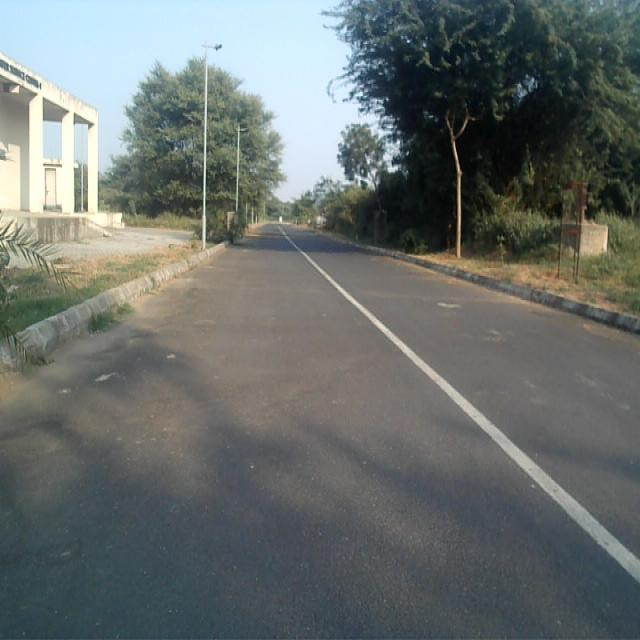lane: (0, 225, 639, 640)
